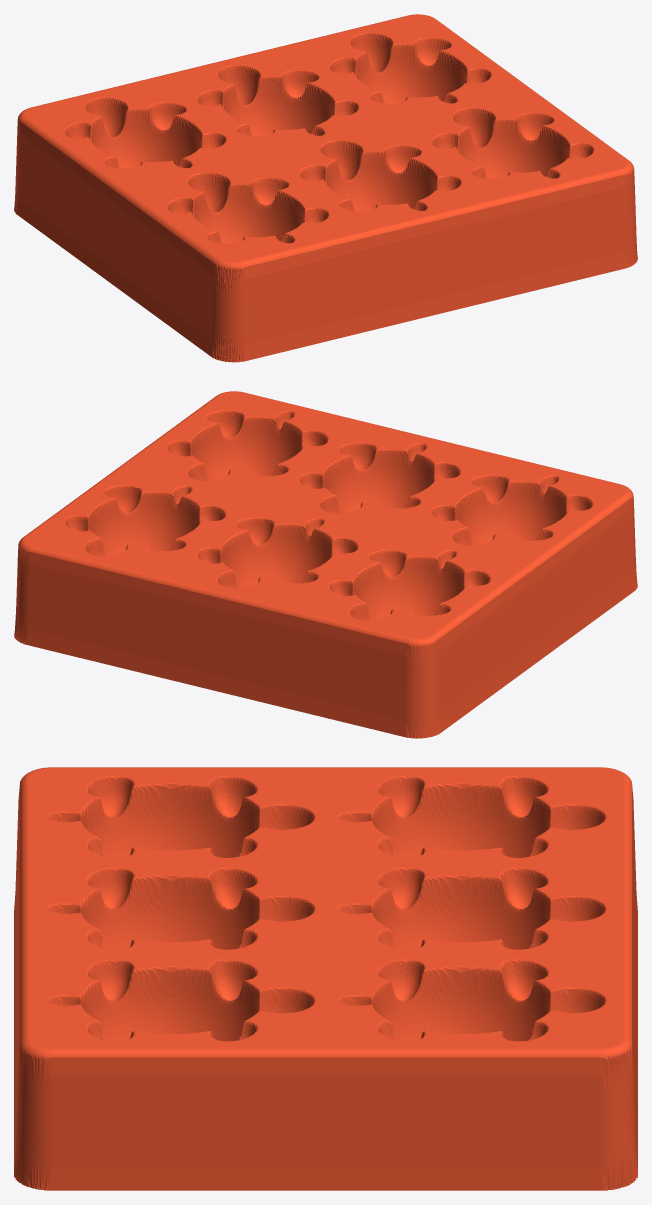
File: mold.glb
3 renders of one model, top to bottom at view 1: azimuth 30°, elevation 25°; view 2: azimuth 150°, elevation 25°; view 3: azimuth 270°, elevation 25°, orthographic. The views are drawn at different scales.
Visible parts, largest first — view 1: geometry_0; view 2: geometry_0; view 3: geometry_0.
Boxes of the visible parts, box(x1,y1,x2,y2) form: geometry_0: box(14, 14, 637, 362); geometry_0: box(14, 391, 637, 738); geometry_0: box(14, 767, 637, 1190).
Size of the model in its own units: 0.1666 by 0.036 by 0.1499.
